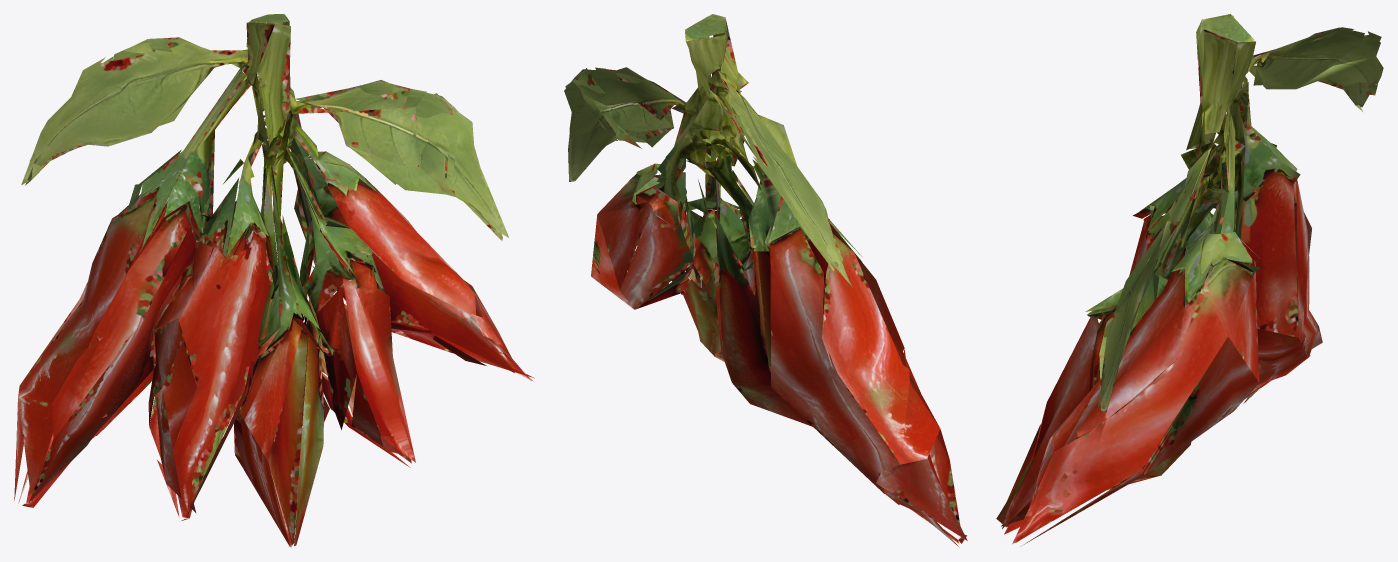
The model's file is turtle-prop-chilli-bunch.glb.
3 views of the same model, side by side, from view 1: azimuth 30°, elevation 25°; view 2: azimuth 150°, elevation 25°; view 3: azimuth 270°, elevation 25° (orthographic). The views are drawn at different scales.
Visible parts, largest first — view 1: Mesh_0; view 2: Mesh_0; view 3: Mesh_0.
Boxes of the visible parts, x1=… form: Mesh_0: x1=14, y1=14, x2=534, y2=547; Mesh_0: x1=564, y1=14, x2=967, y2=547; Mesh_0: x1=996, y1=14, x2=1383, y2=546.
Size of the model in its own units: 0.0204 by 0.02 by 0.0129.
Materials: 1 (1 with a texture image).
